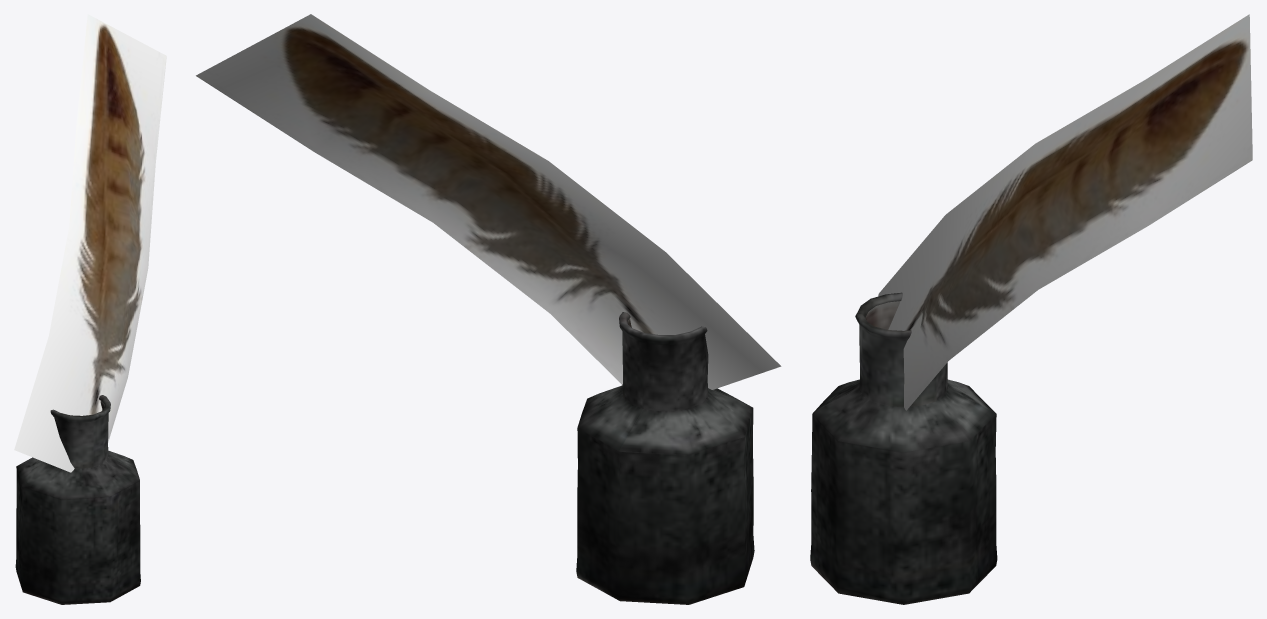
File: quill.glb
3 renders of one model, left to right at view 1: azimuth 30°, elevation 25°; view 2: azimuth 150°, elevation 25°; view 3: azimuth 270°, elevation 25°, orthographic. The views are drawn at different scales.
Parts seen in each view (by area): view 1: Feather Quill_low, Victorian Ink Bottle; view 2: Feather Quill_low, Victorian Ink Bottle; view 3: Feather Quill_low, Victorian Ink Bottle.
Boxes of the visible parts, x1,y1,x2,y2 form: Feather Quill_low: [14, 14, 166, 472]; Victorian Ink Bottle: [15, 395, 140, 604]; Feather Quill_low: [196, 14, 781, 389]; Victorian Ink Bottle: [576, 312, 754, 604]; Feather Quill_low: [878, 14, 1252, 410]; Victorian Ink Bottle: [810, 292, 997, 604].
Bounding box in the file's own units: 0.1033 × 0.1558 × 0.0972.
Materials: 1 (1 with a texture image).
